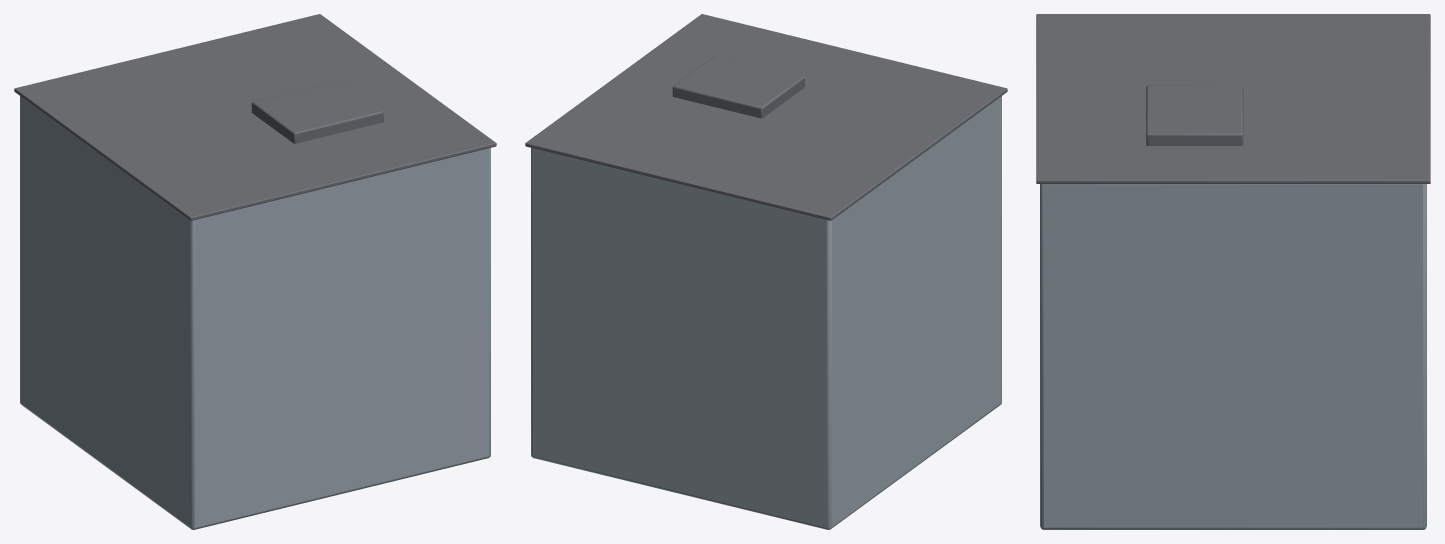
Rendered from tower_grey.fbx.
3 renders of one model, left to right at view 1: azimuth 30°, elevation 25°; view 2: azimuth 150°, elevation 25°; view 3: azimuth 270°, elevation 25°, orthographic. The views are drawn at different scales.
Visible parts, largest first — view 1: tower_grey; view 2: tower_grey; view 3: tower_grey.
Part boxes in pixels (x1,y1,x2,y2): tower_grey: [14, 14, 496, 529]; tower_grey: [525, 14, 1007, 529]; tower_grey: [1036, 14, 1430, 529].
Bounding box in the file's own units: 1.02 × 1.04 × 1.02.
